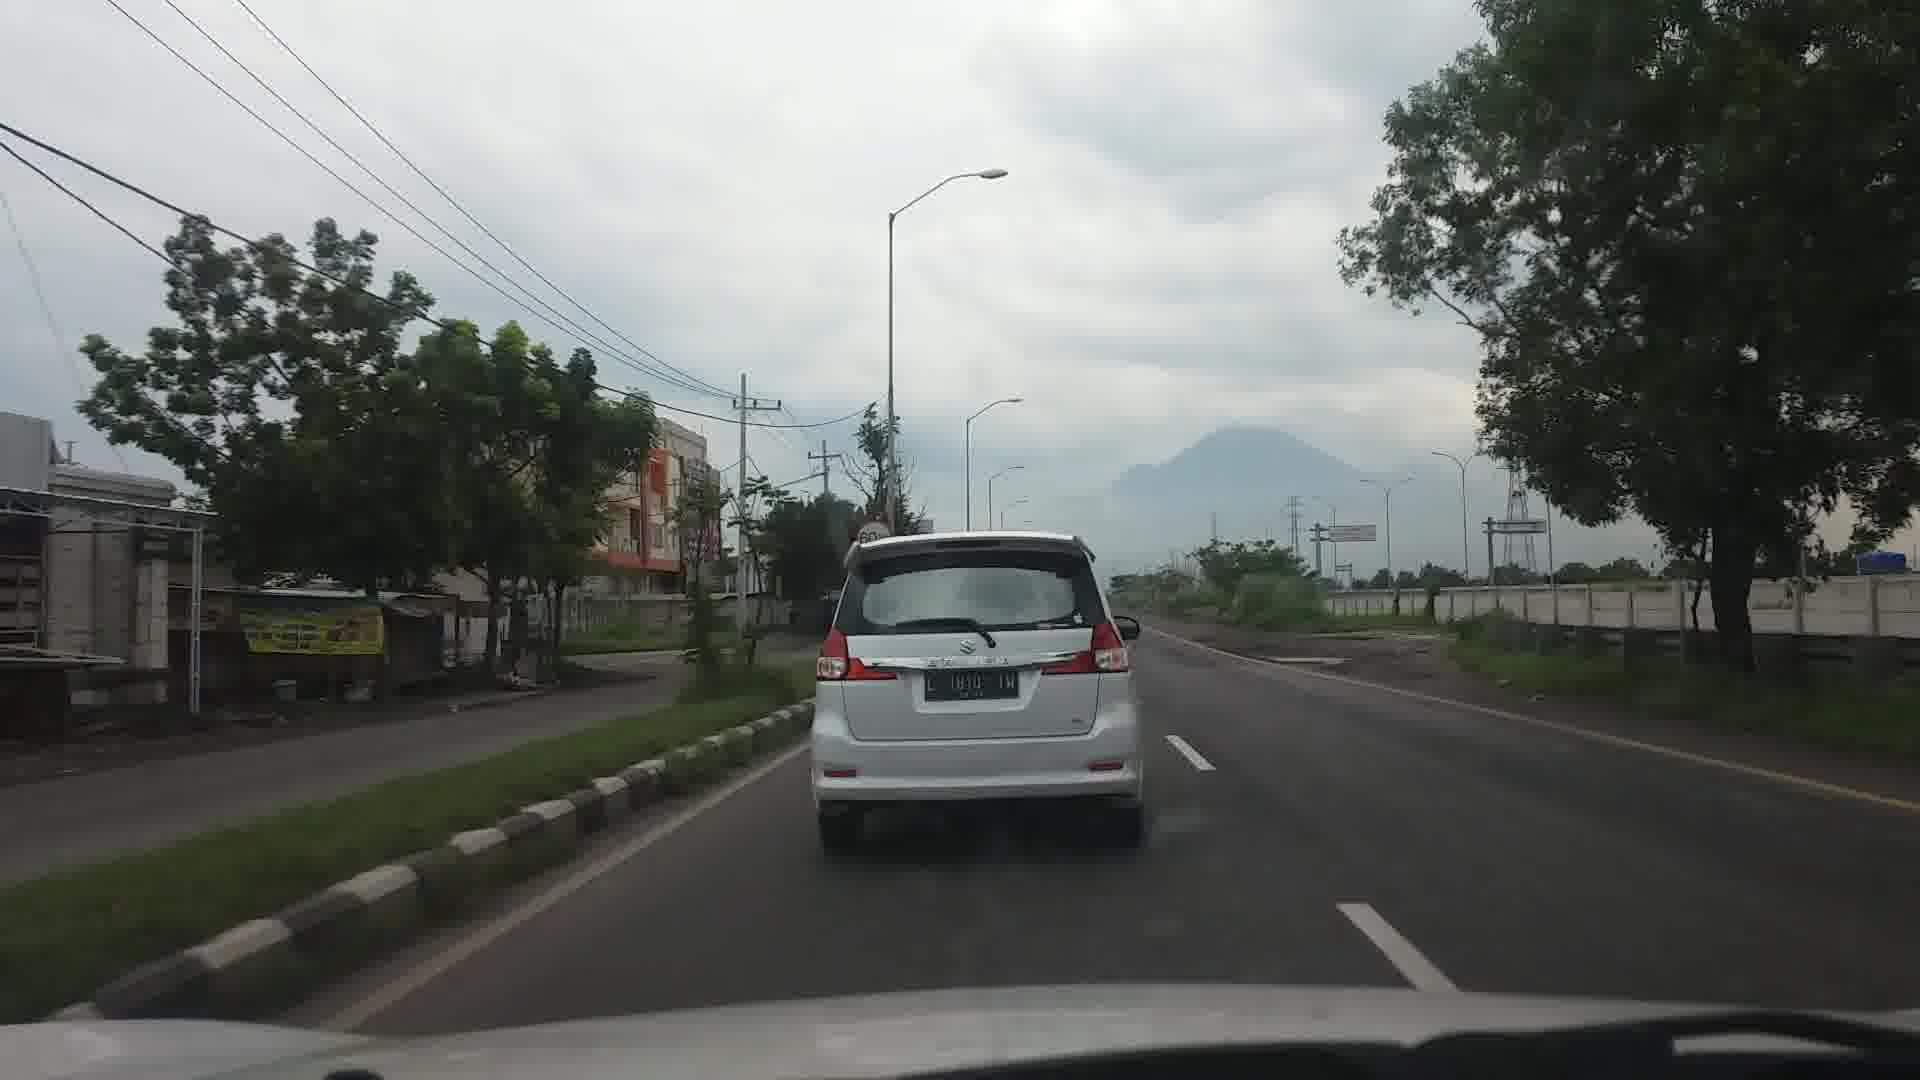plate_positive: (924, 669, 1021, 702)
